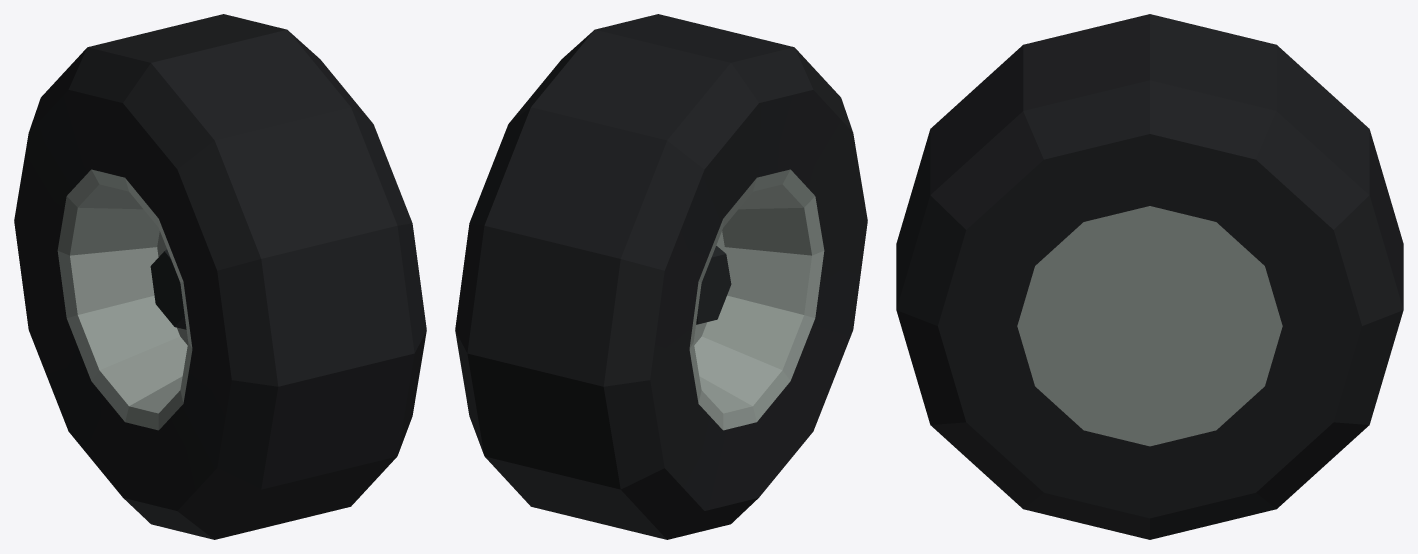
File: SM_Veh_Forklift_Wheel_fr.obj
The picture shows the model from 3 angles, left to right: view 1: azimuth 30°, elevation 25°; view 2: azimuth 150°, elevation 25°; view 3: azimuth 270°, elevation 25°; orthographic projection.
Parts seen in each view (by area): view 1: SM_Veh_Forklift_Wheel_fr_0; view 2: SM_Veh_Forklift_Wheel_fr_0; view 3: SM_Veh_Forklift_Wheel_fr_0.
Boxes of the visible parts, x1,y1,x2,y2 form: SM_Veh_Forklift_Wheel_fr_0: [14, 14, 426, 539]; SM_Veh_Forklift_Wheel_fr_0: [455, 14, 867, 539]; SM_Veh_Forklift_Wheel_fr_0: [896, 14, 1403, 539].
Size of the model in its own units: 0.2204 by 0.4922 by 0.4922.
Materials: 1 (1 with a texture image).
